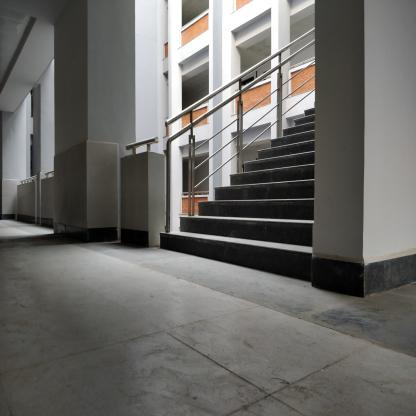stairs: (231, 175, 314, 286)
